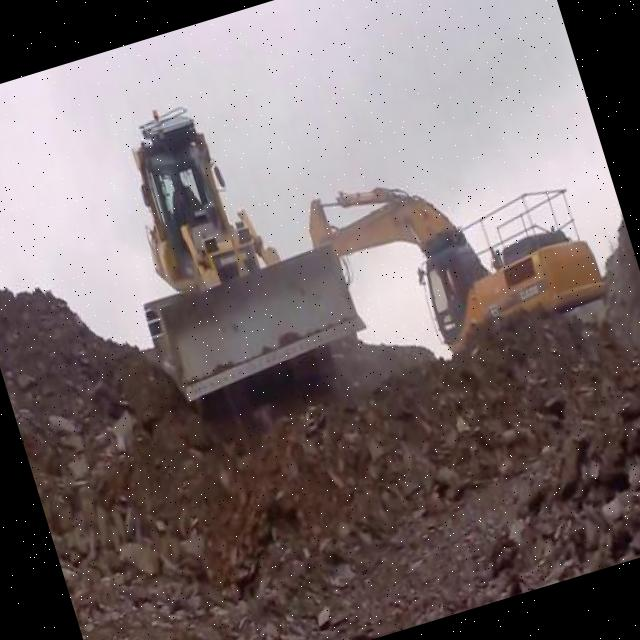Excavator: (302, 124, 612, 382)
